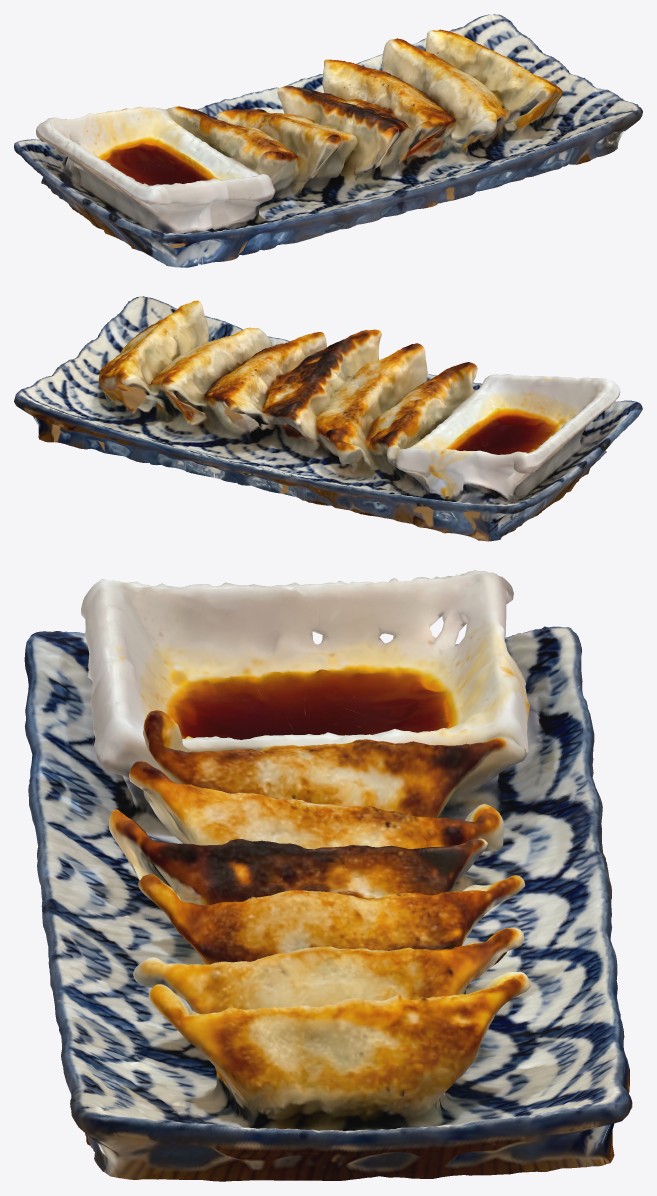
File: gyozas.glb
The picture shows the model from 3 angles, top to bottom: view 1: azimuth 30°, elevation 25°; view 2: azimuth 150°, elevation 25°; view 3: azimuth 270°, elevation 25°; orthographic projection. The views are drawn at different scales.
Visible parts, largest first — view 1: Object_2; view 2: Object_2; view 3: Object_2.
Boxes of the visible parts, bbox=[...] form: Object_2: bbox=[14, 14, 642, 267]; Object_2: bbox=[14, 296, 642, 541]; Object_2: bbox=[24, 570, 632, 1181].
Bounding box in the file's own units: 1.29 × 0.1873 × 0.6703.
Materials: 1 (1 with a texture image).
